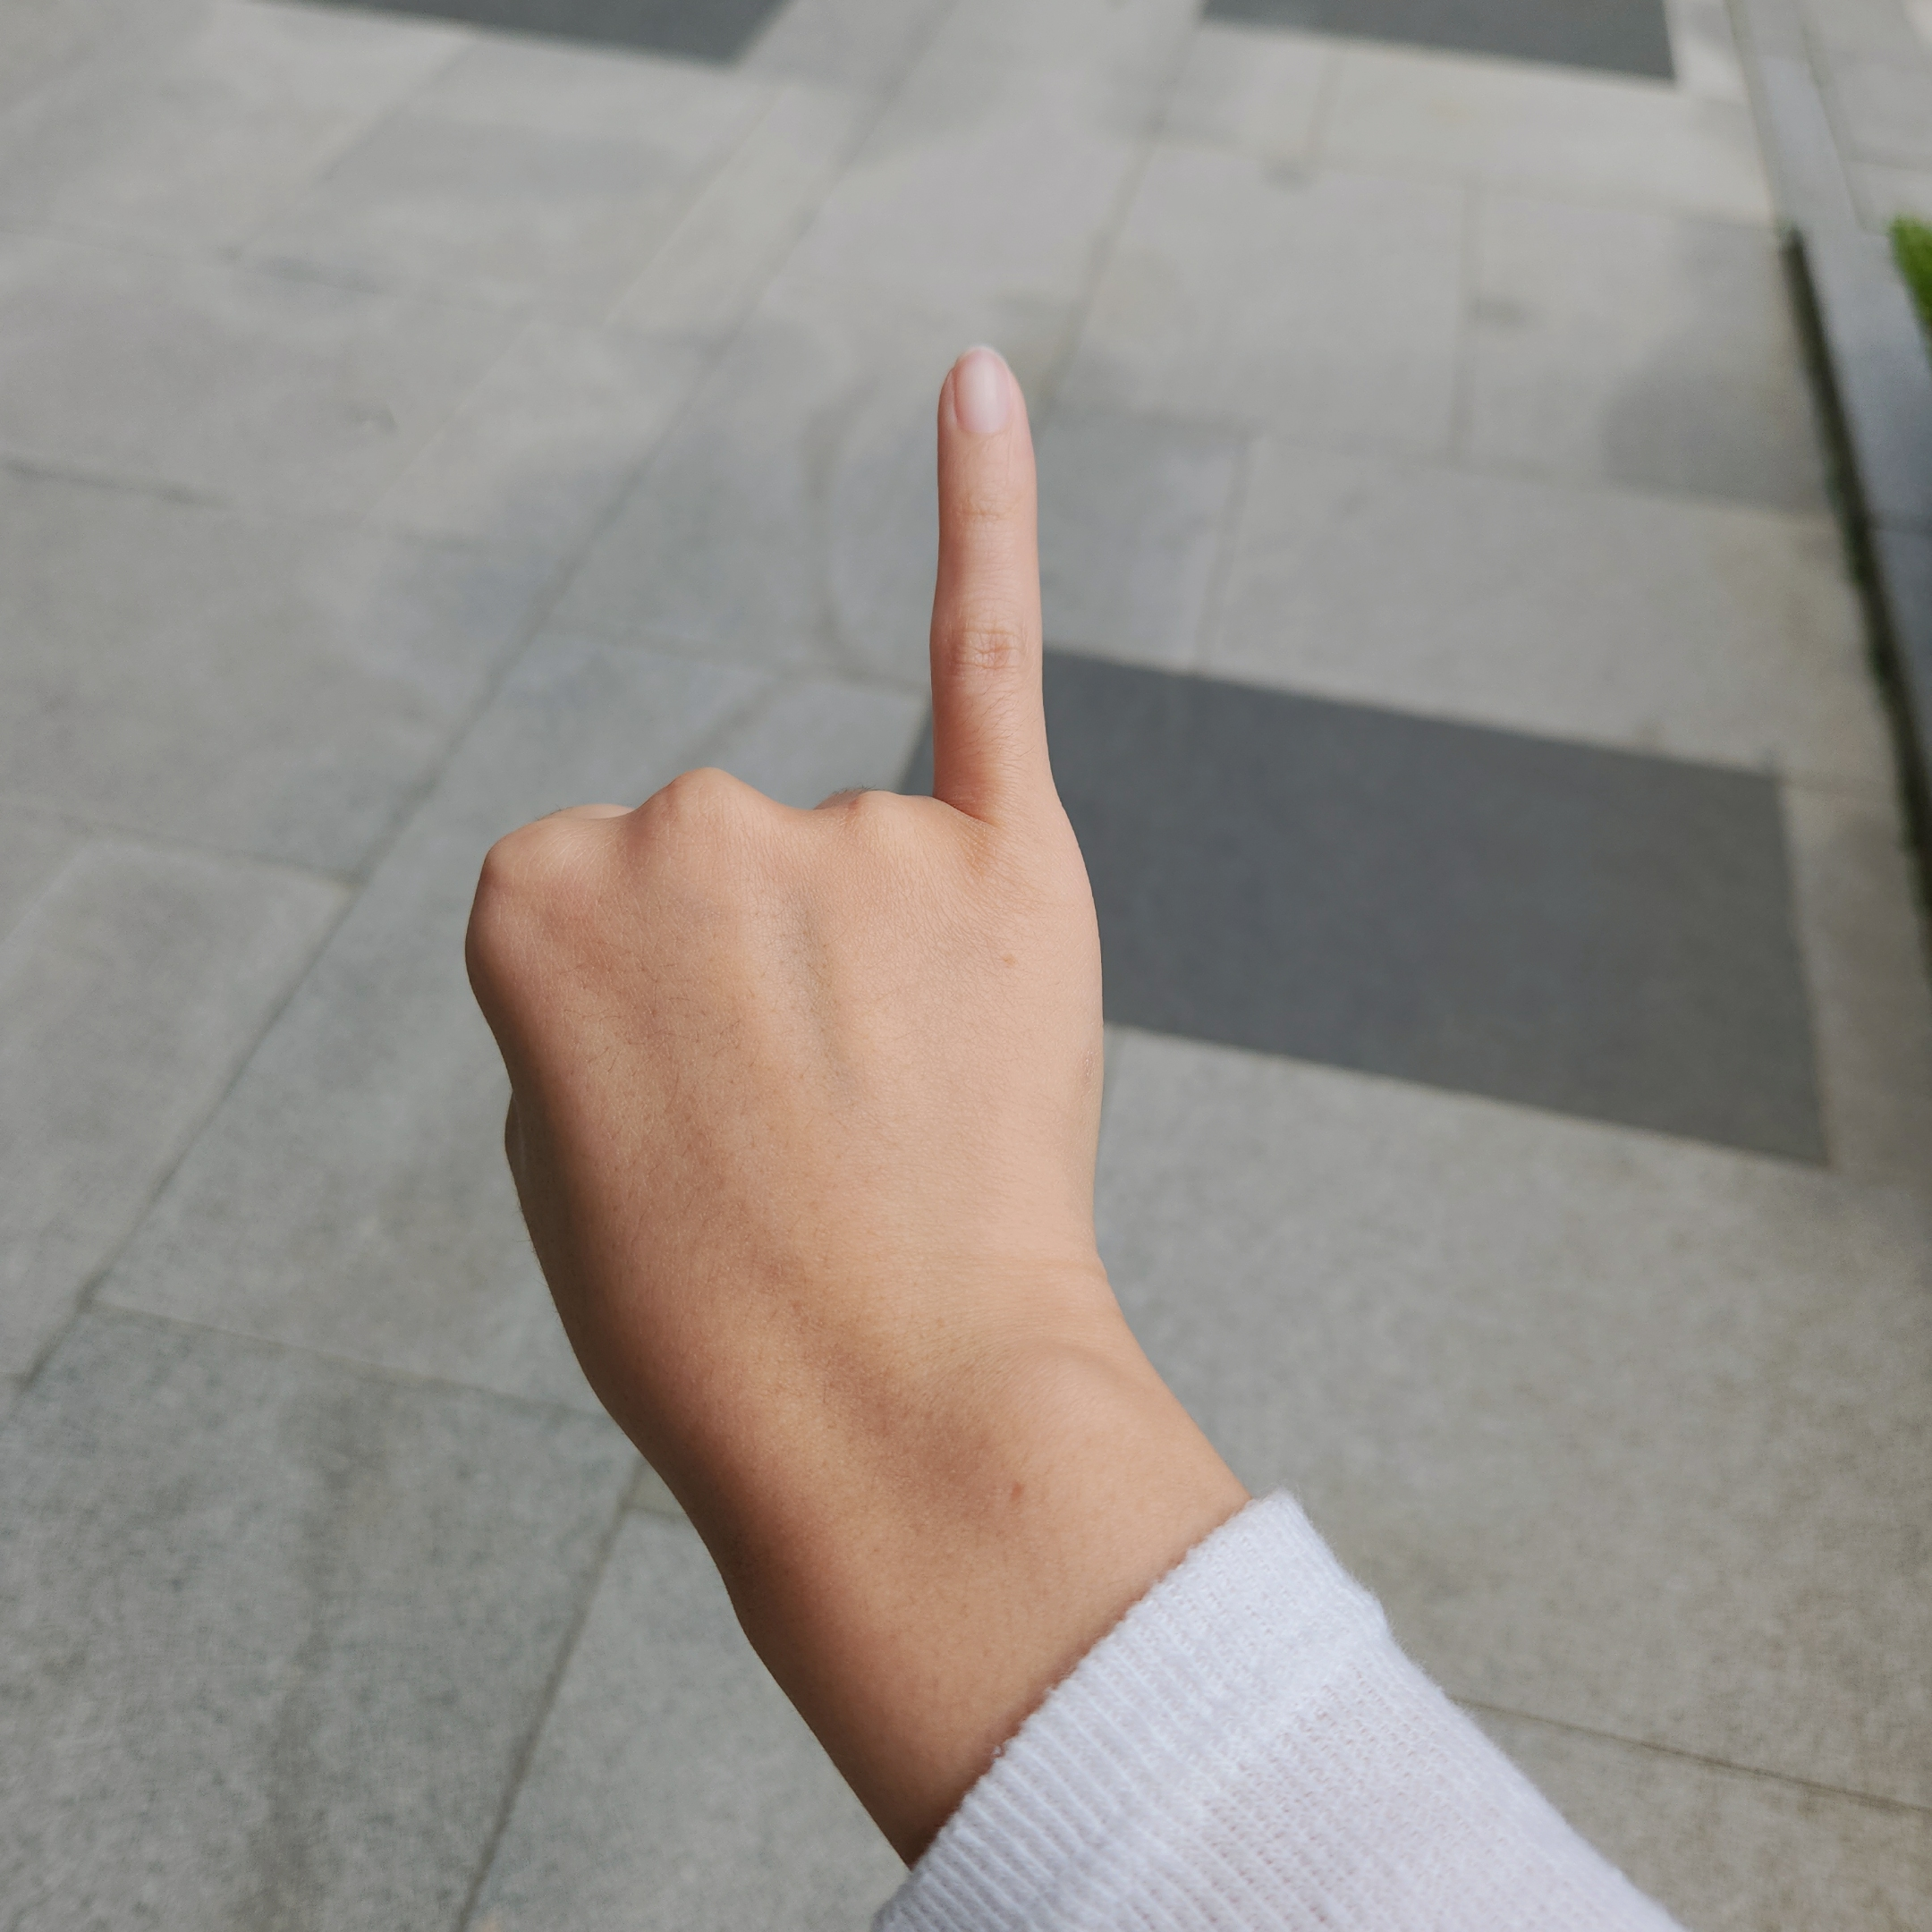fine: (461, 347, 1111, 1477)
